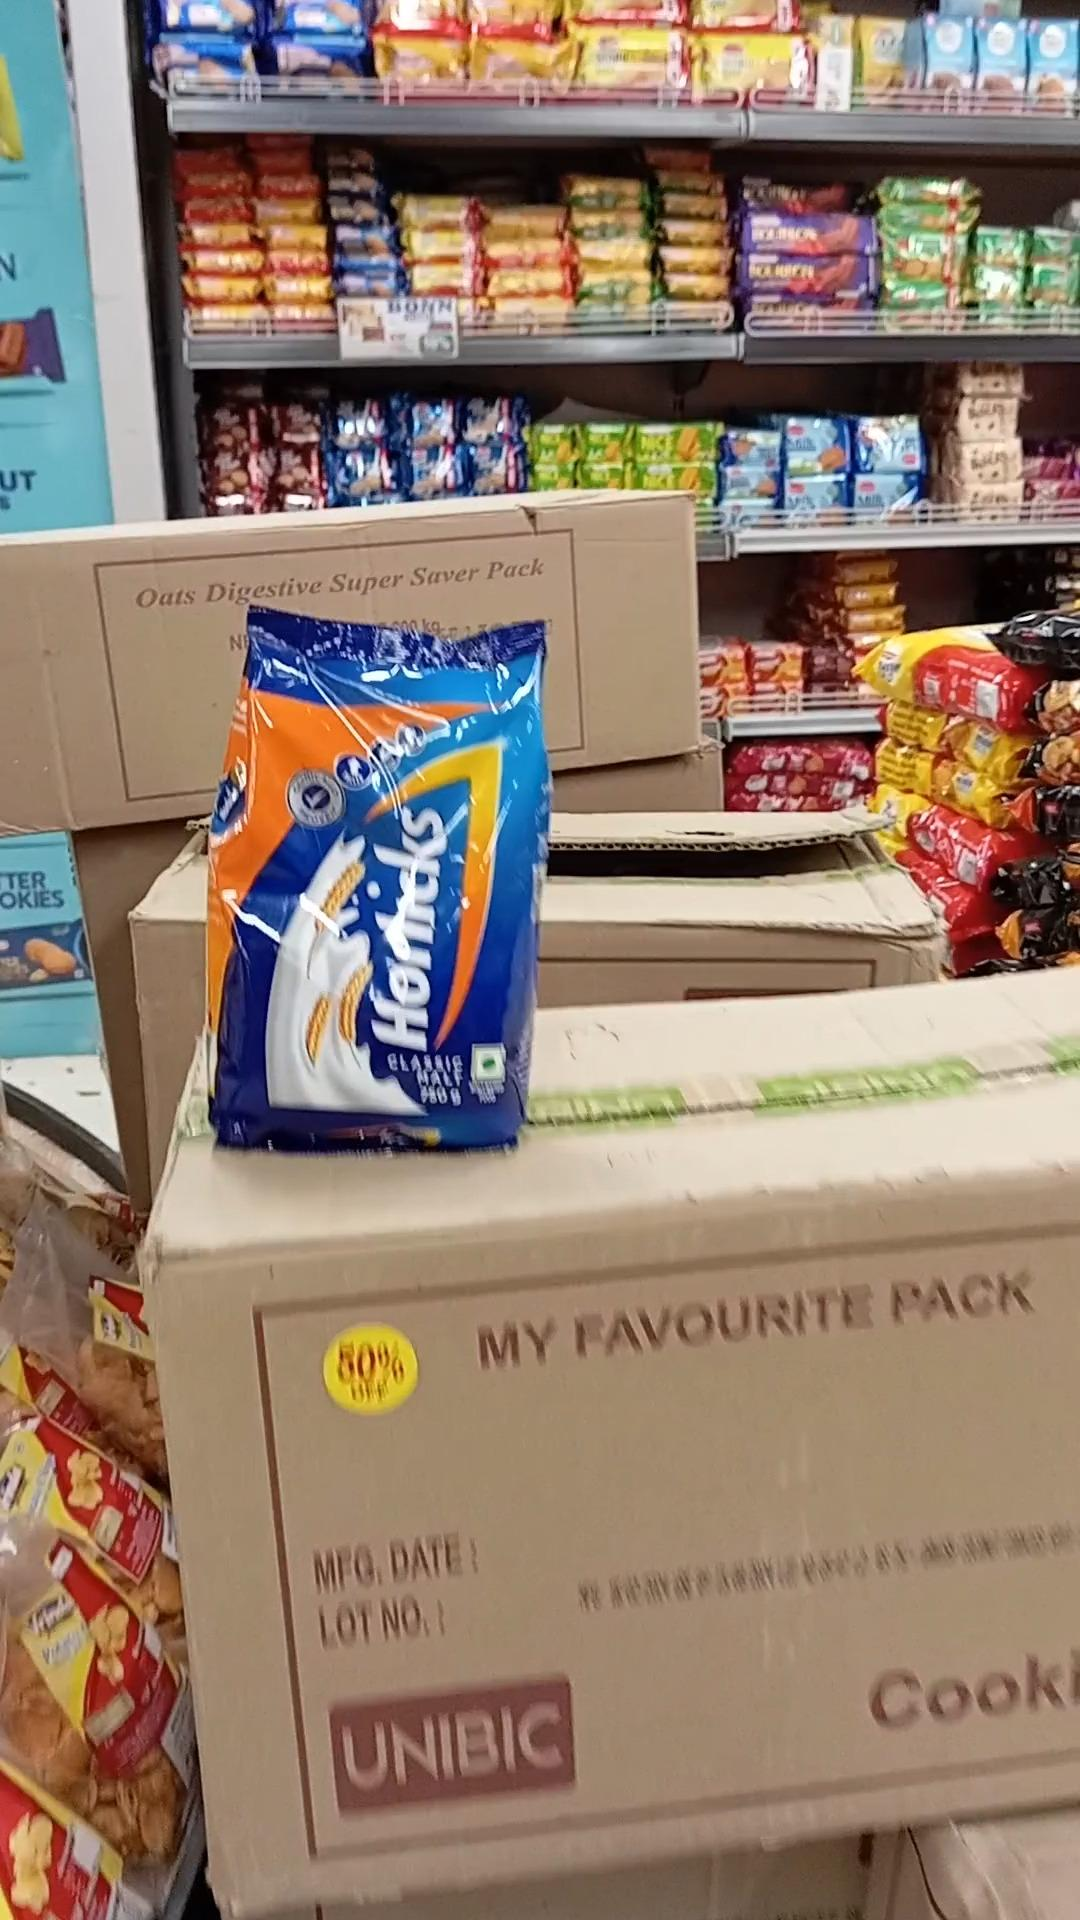HORLICK_CLASSIC_MALT_750_G_POUCH: (227, 600, 541, 1151)
